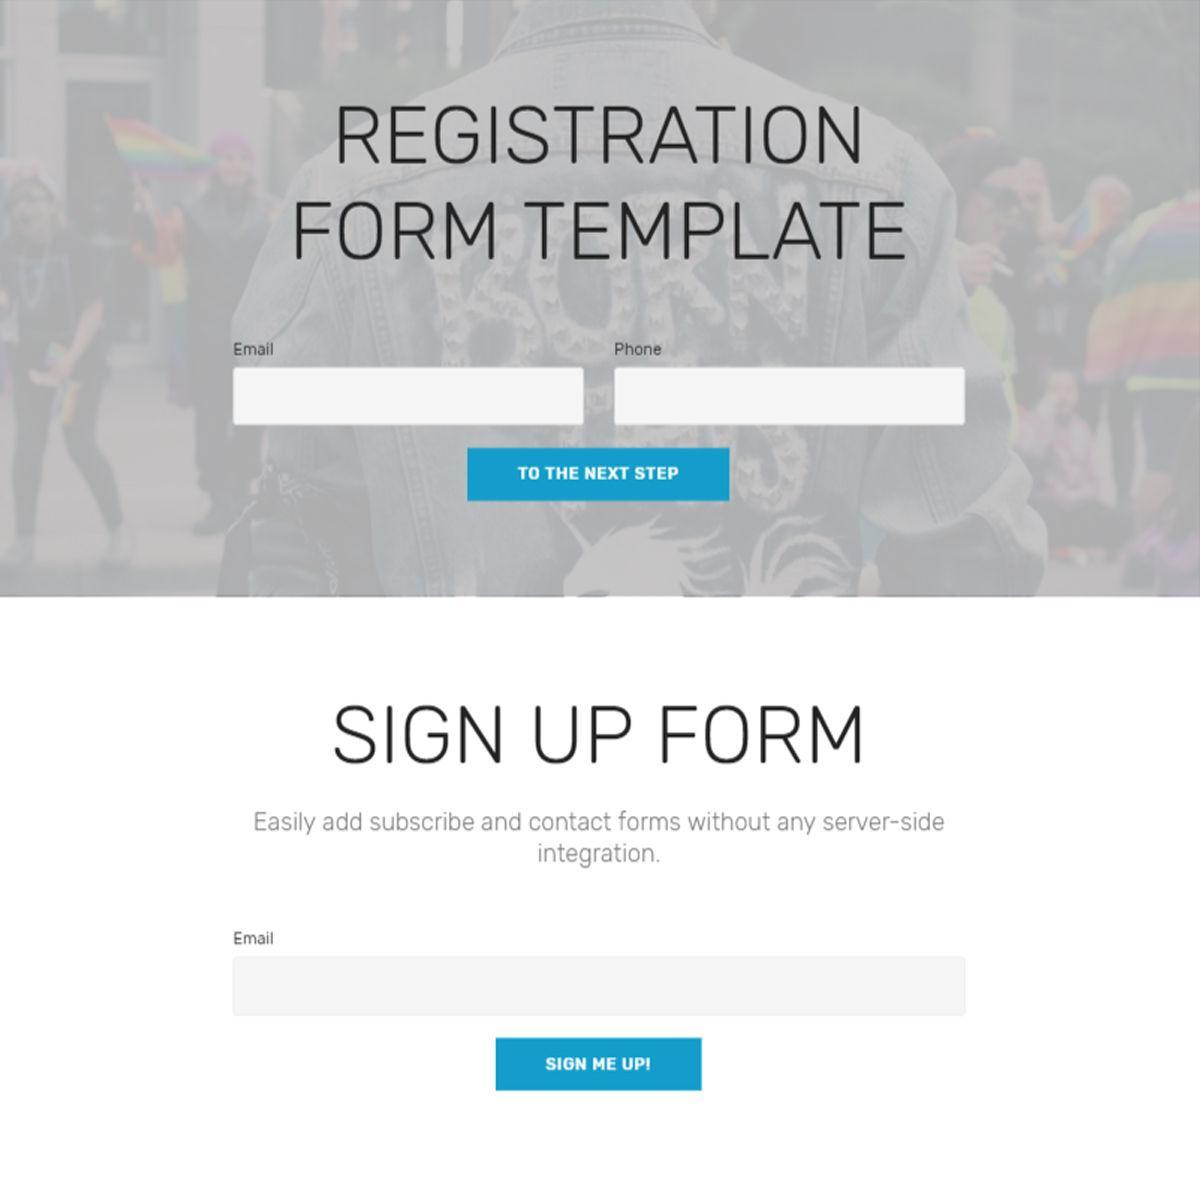button: (464, 452, 732, 497), (496, 1038, 705, 1092)
input: (234, 962, 962, 1016), (230, 367, 589, 434), (614, 371, 970, 434)
label: (258, 93, 940, 265), (319, 687, 893, 770), (219, 335, 301, 364), (218, 925, 295, 953), (616, 335, 686, 364)
